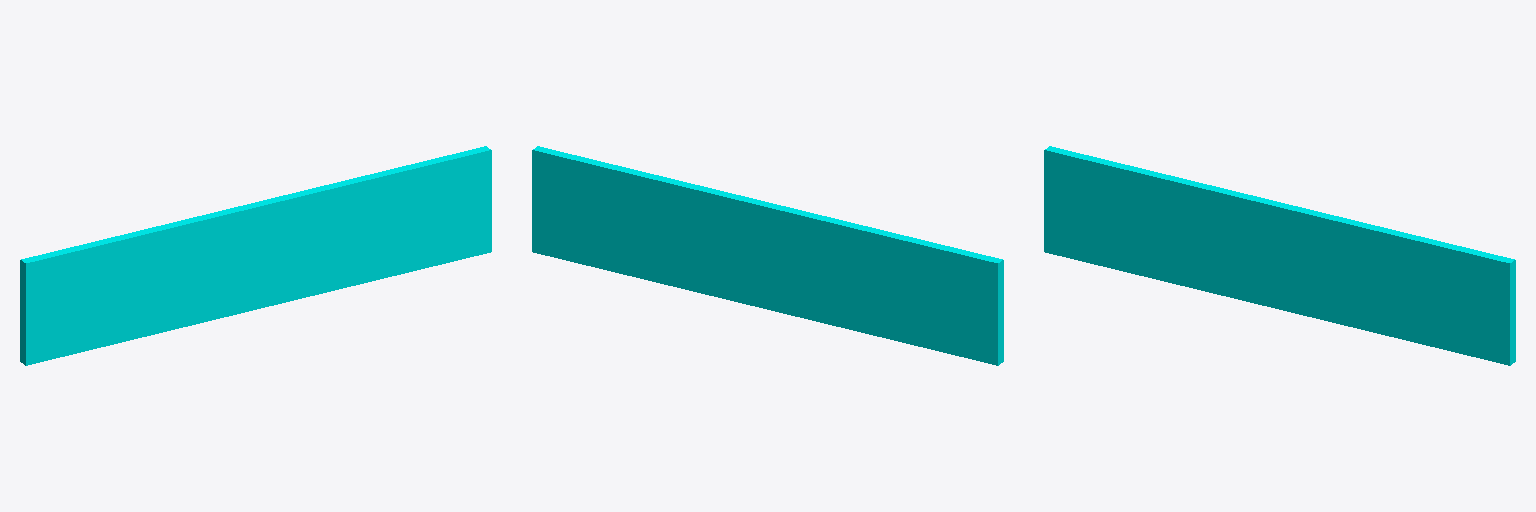
URDF robot description (table):
<?xml version="0.0" ?>
<robot name="table">
    <link name="table">
        <contact>
            <lateral_friction value="1"/>
        </contact>

        <inertial>
            <origin xyz="0 0 0" rpy="0 0 0"/>
            <mass value="0.0"/>
            <inertia ixx="0"  ixy="0"  ixz="0" iyy="0" iyz="0" izz="0" />
        </inertial>

        <visual>
            <origin xyz="0 0 0" rpy="0 0 0" />
            <geometry>
                <box size="10 0.2 2.1" />
            </geometry>
            <material name="Cyan">
                <color rgba="0 1.0 1.0 1.0"/>
            </material>
        </visual>

        <collision>
            <origin xyz="0 0 0" rpy="0 0 0" />
            <geometry>
                <box size="10 0.2 2.1" />
            </geometry>
        </collision>
    </link>
</robot>

--- What the picture shows (computed from the rendered views, not written in the file) ---
The picture shows the robot from 3 angles, left to right: view 1: azimuth 30°, elevation 25°; view 2: azimuth 150°, elevation 25°; view 3: azimuth 330°, elevation 25°; orthographic projection.
Robot: table — 1 links, 0 joints (none); root link table; default pose: all joints at 0.
Links seen in each view (by area): view 1: table; view 2: table; view 3: table.
Boxes of the visible links, <box> form: table: <box>20,146,491,365</box>; table: <box>532,146,1003,365</box>; table: <box>1044,146,1515,365</box>.
Size in the robot's own frame: 10 by 0.2 by 2.1 metres.
Geometry: primitives only (box / cylinder / sphere), no mesh files.